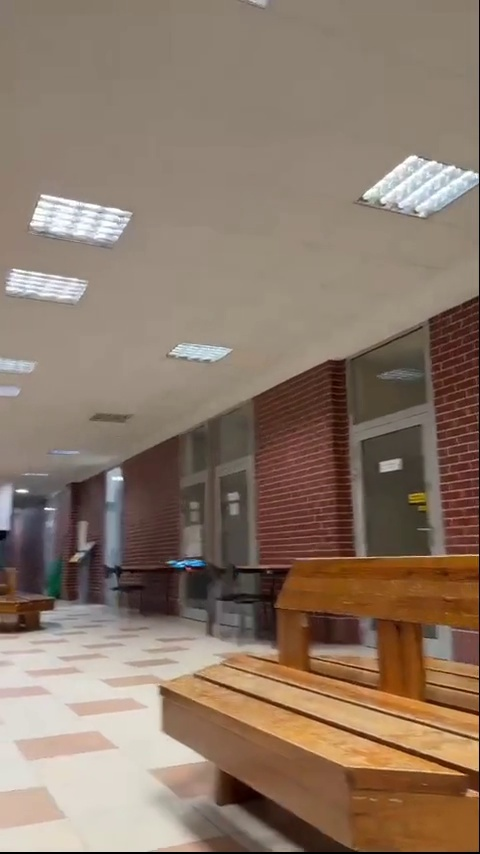drone: (165, 559, 207, 573)
